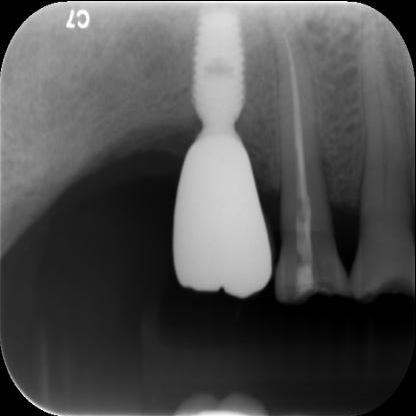Bicon: (188, 10, 252, 117)
